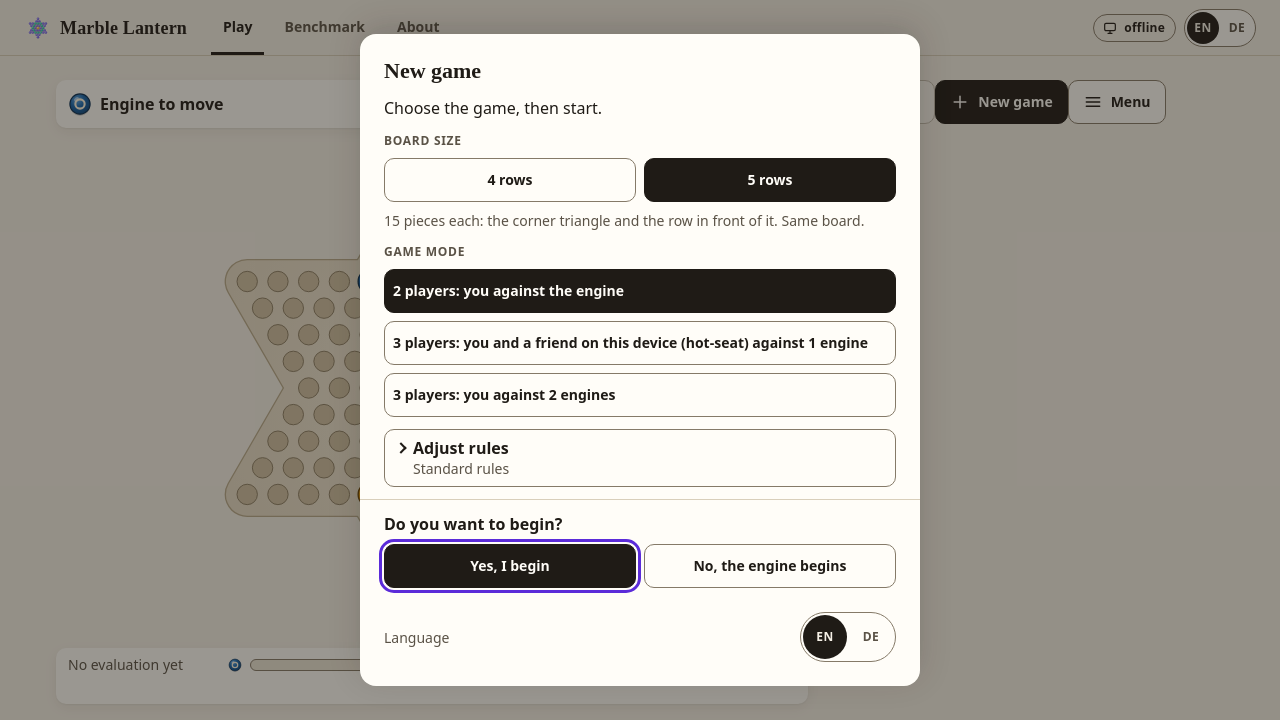
Scenario: play screen on a small screen › opens the menu with the settings and the secondary actions
The width and height of the screenshot is (1280, 720).
Click the button "Yes, I begin" at point(510, 566), box [384, 544, 636, 588]
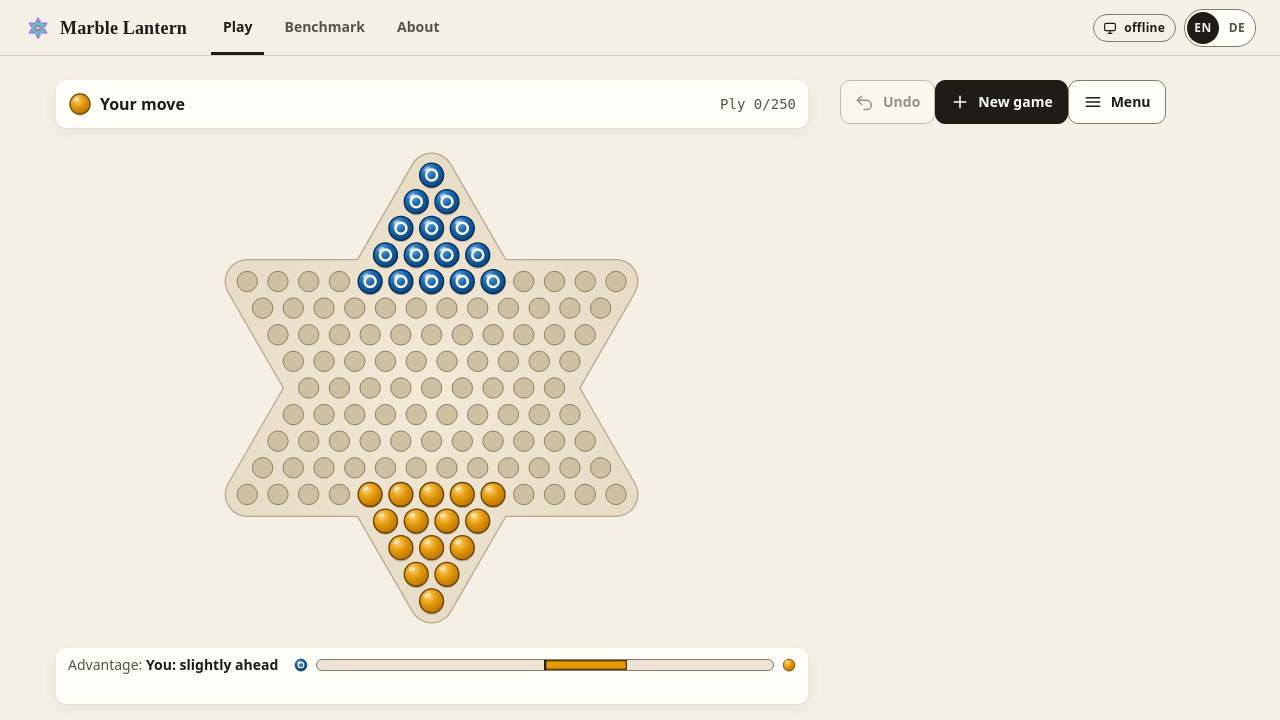
Click the button "Menu" at point(1117, 102), box [1068, 80, 1166, 124]
(page scrolled)
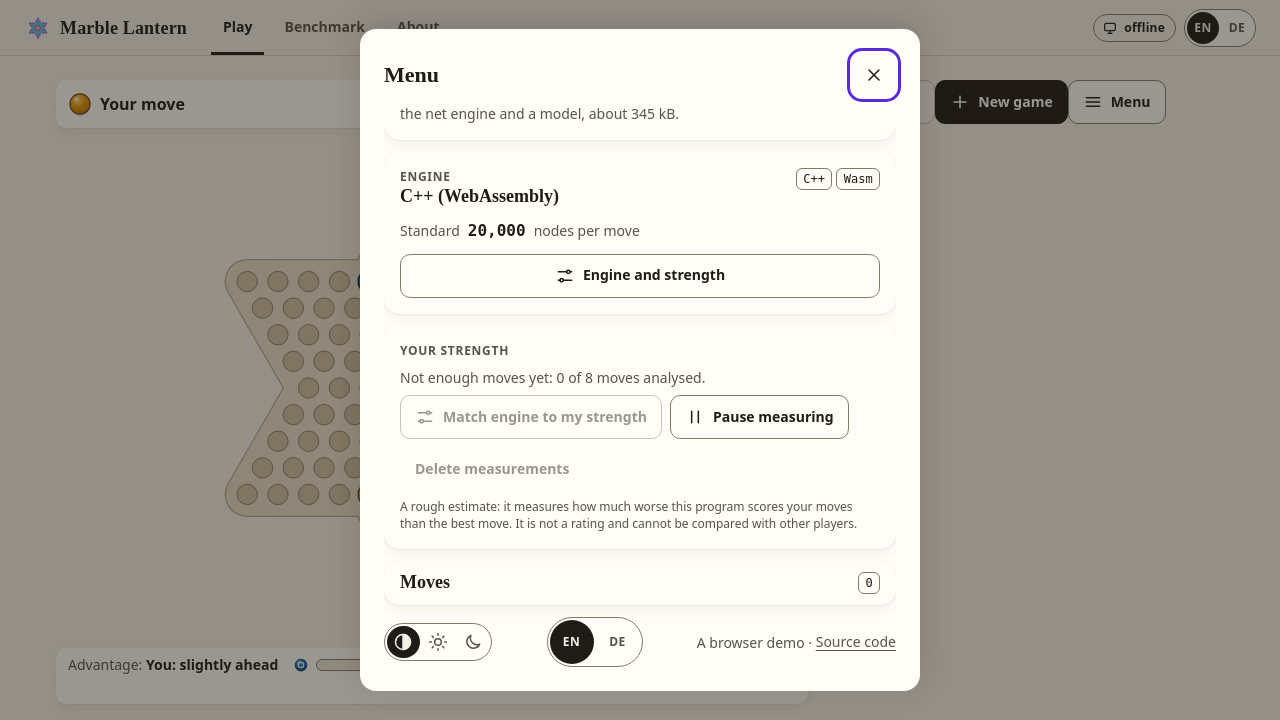
Check: the button "Menu" is expanded, box [1068, 80, 1166, 124]
Check: the element with class "ml-engine" is shown, box [384, 152, 896, 314]
Check: the element with class "ml-skill" is shown, box [384, 326, 896, 549]
